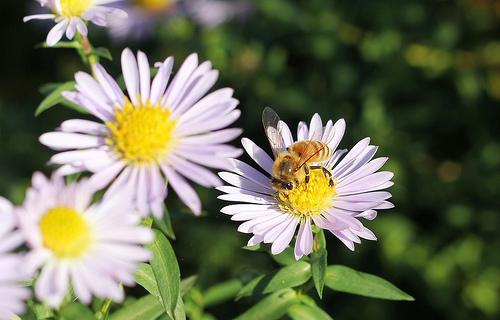daisy: (40, 48, 244, 224), (220, 112, 398, 261), (3, 170, 157, 305), (20, 1, 133, 42)
